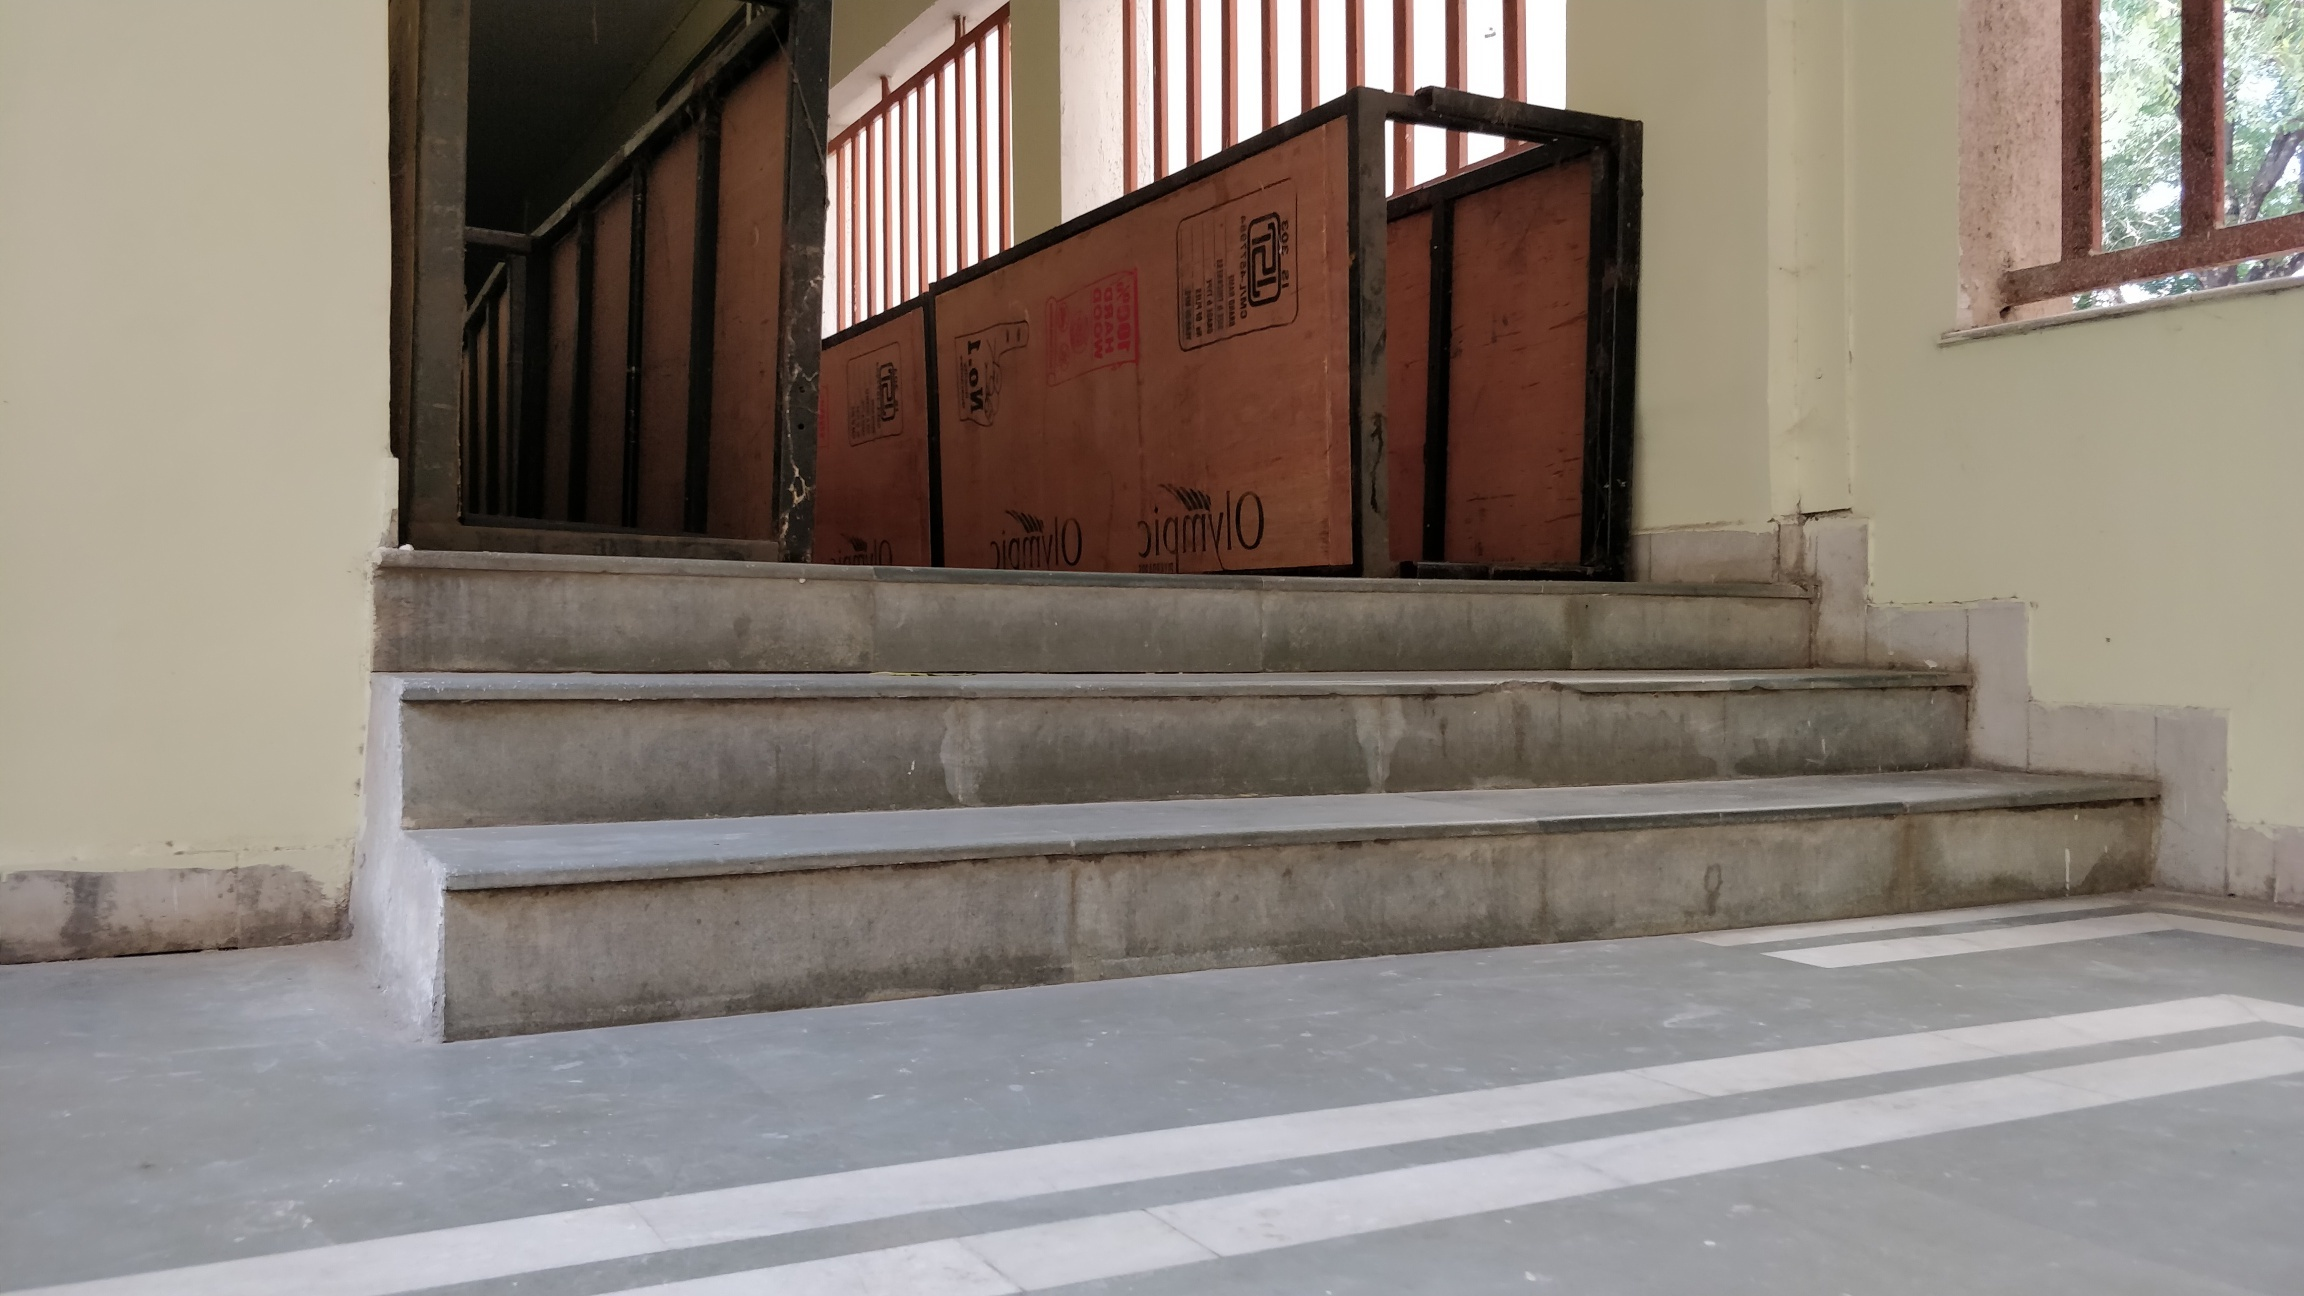stairs_up: (362, 536, 2087, 953)
